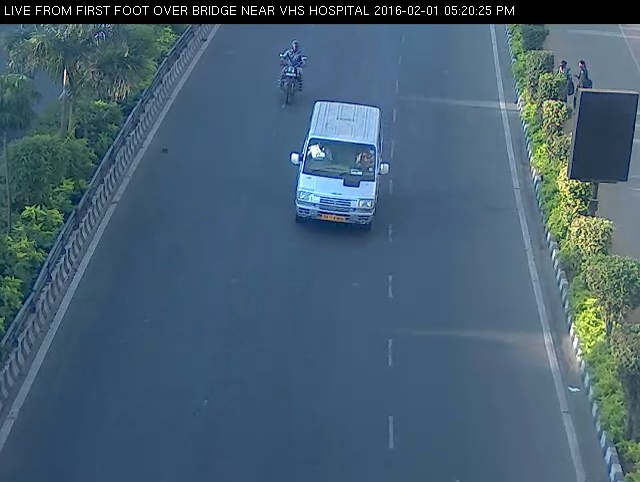Car: (287, 90, 393, 244)
Person: (268, 35, 316, 109)
